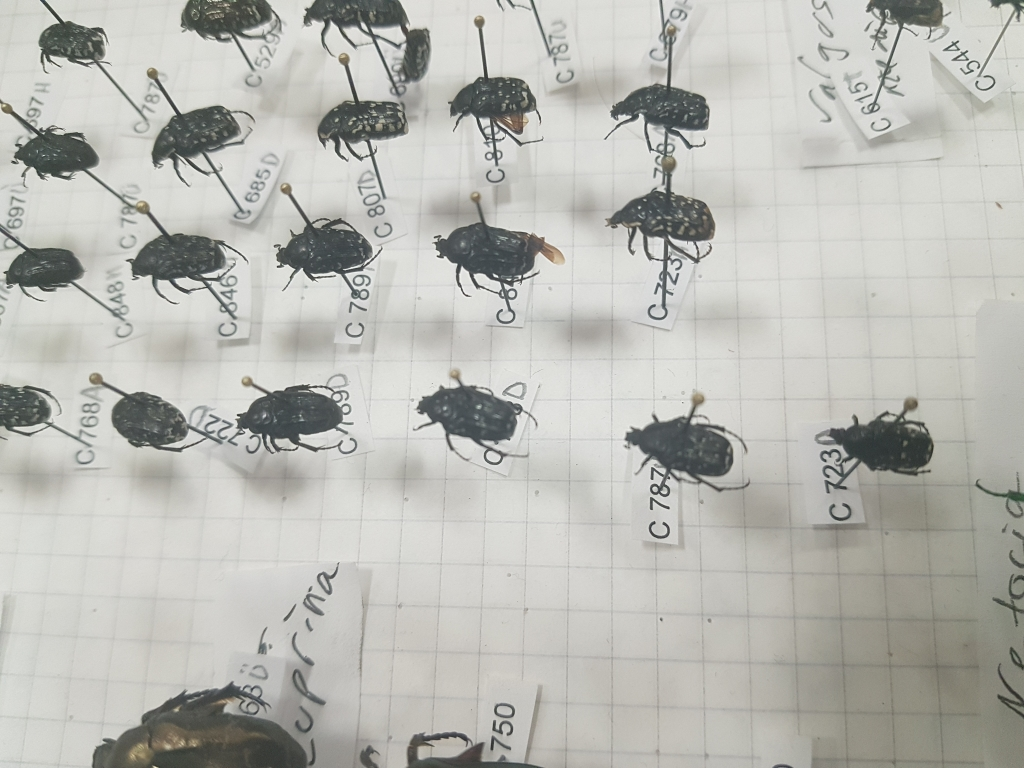Oxythyrea_albopicta: (600, 183, 721, 268), (143, 101, 259, 184), (309, 91, 416, 165)
